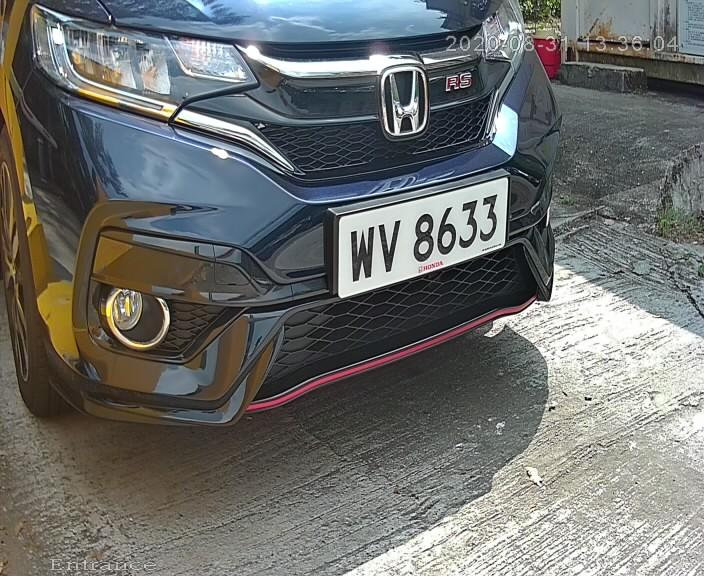License Plate: (334, 175, 497, 301)
